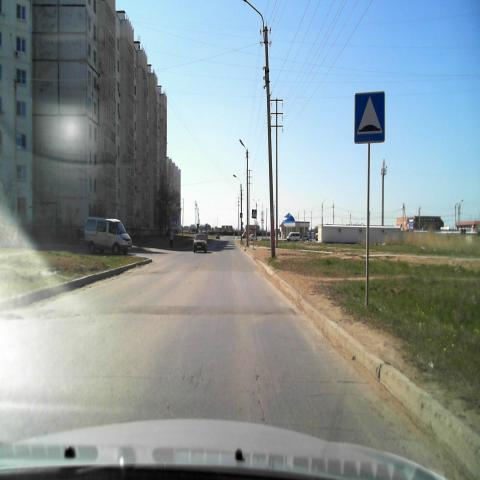5_20: (355, 92, 385, 144)
